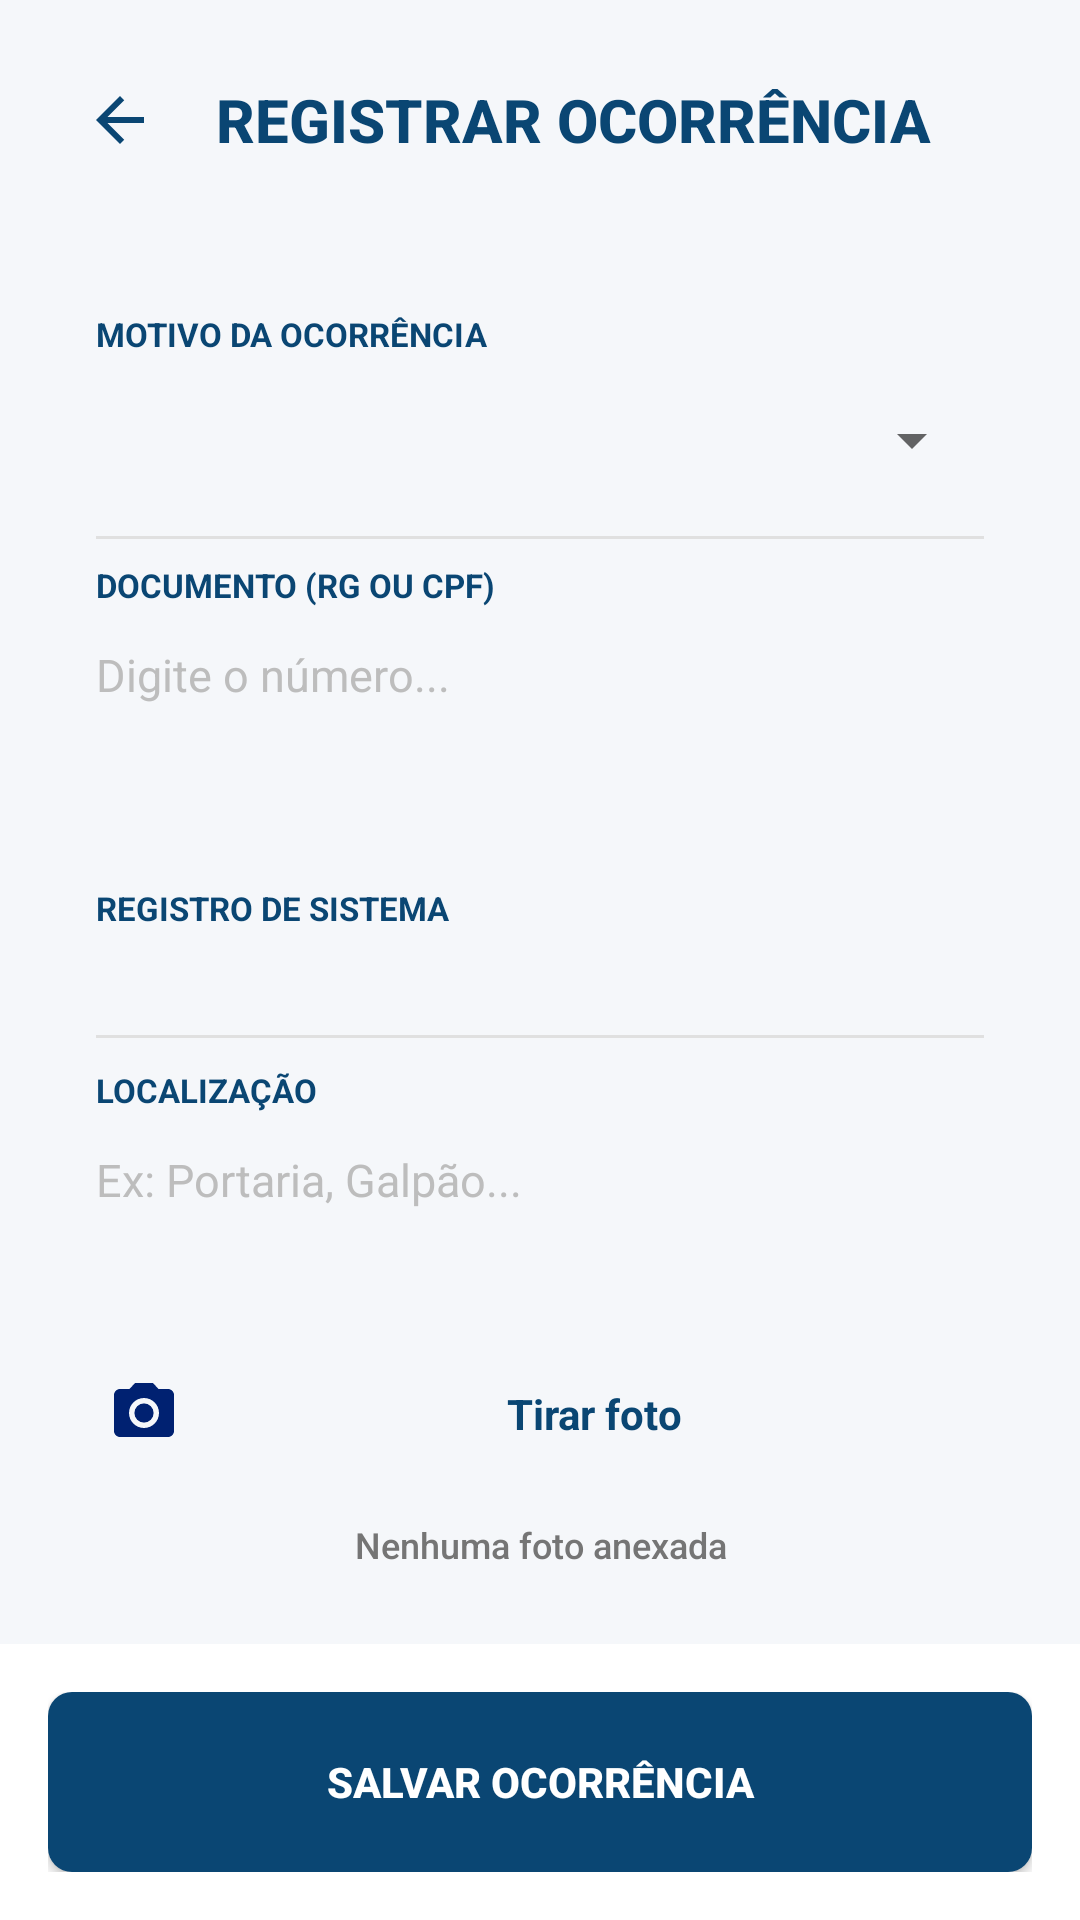

Screen size 1080w x 1920h. Icon name, then its center in pixels as point (x, y):
Voltar: point (120, 120)
